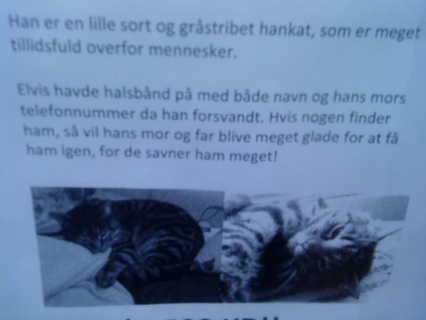Cat: (221, 198, 380, 305), (40, 195, 205, 288)
